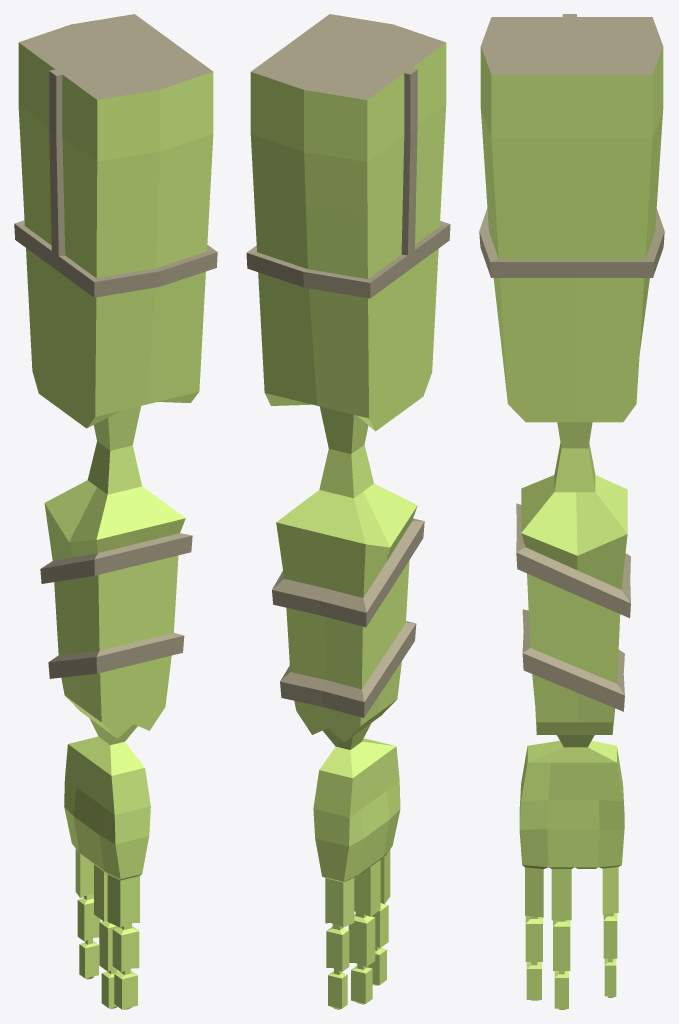
The model's file is hand1.fbx.
3 renders of one model, left to right at view 1: azimuth 30°, elevation 25°; view 2: azimuth 150°, elevation 25°; view 3: azimuth 270°, elevation 25°, orthographic. The views are drawn at different scales.
Parts seen in each view (by area): view 1: arm2.002; view 2: arm2.002; view 3: arm2.002.
Part boxes in pixels (x1=…): arm2.002: x1=14, y1=14, x2=217, y2=1009; arm2.002: x1=246, y1=14, x2=450, y2=1009; arm2.002: x1=479, y1=14, x2=664, y2=1009.
Bounding box in the file's own units: 0.0631 × 0.4527 × 0.0787.
